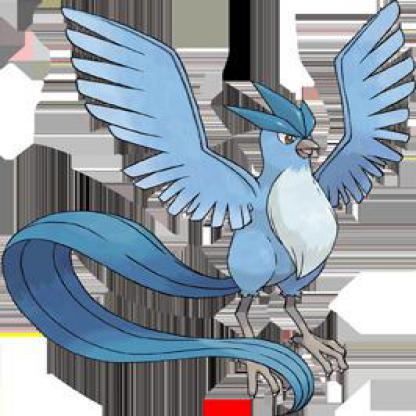Articuno: (1, 1, 414, 416)
